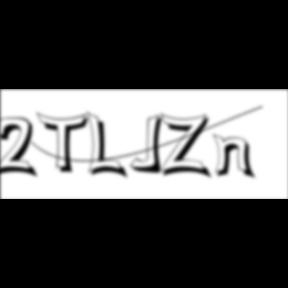2: (0, 117, 42, 181)
J: (131, 114, 170, 176)
L: (87, 110, 131, 182)
T: (36, 112, 94, 176)
Z: (161, 112, 216, 181)
n: (212, 132, 260, 181)
